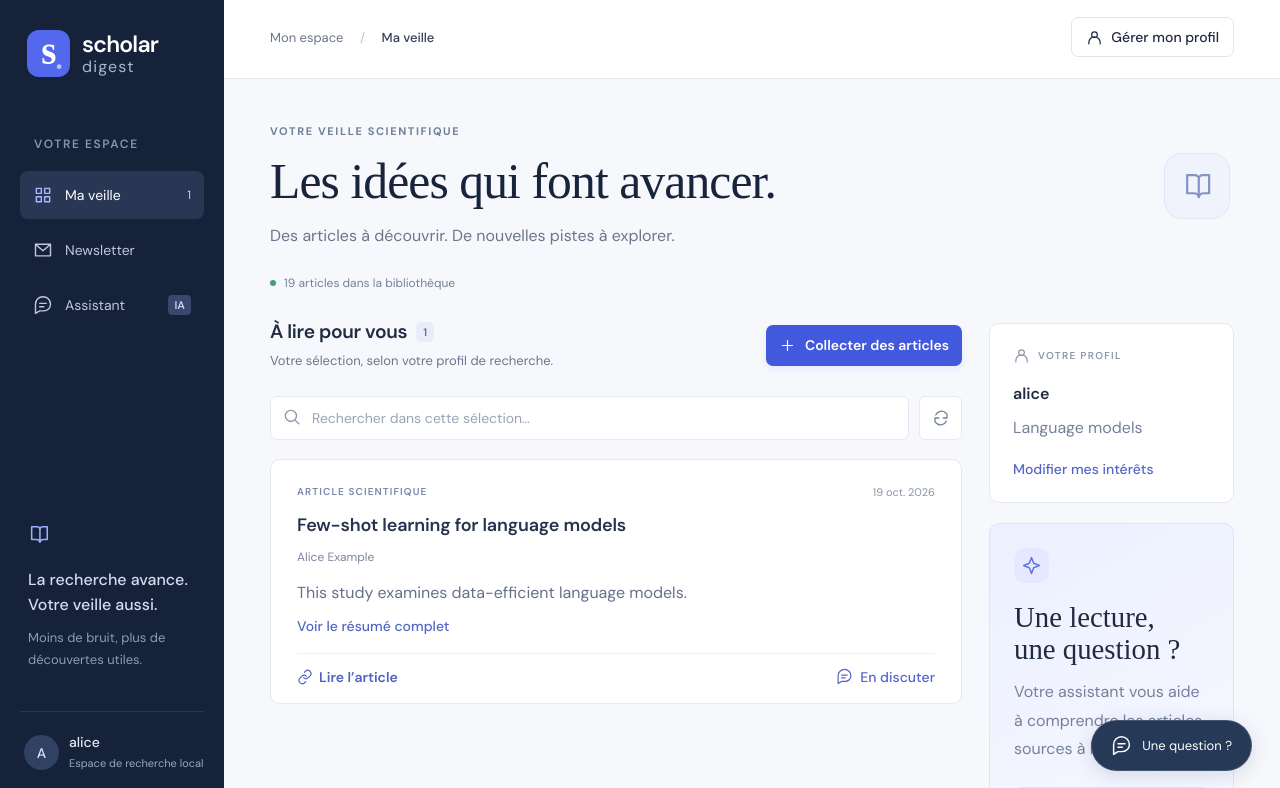
Test case: research workspace › collects using the selected period and refreshes recommendations
This screenshot has width=1280, height=788.
Expected: the heading "Few-shot learning for language models" is shown, [297, 512, 626, 536]
Click the button "Collecter des articles": (864, 346) [766, 326, 962, 366]
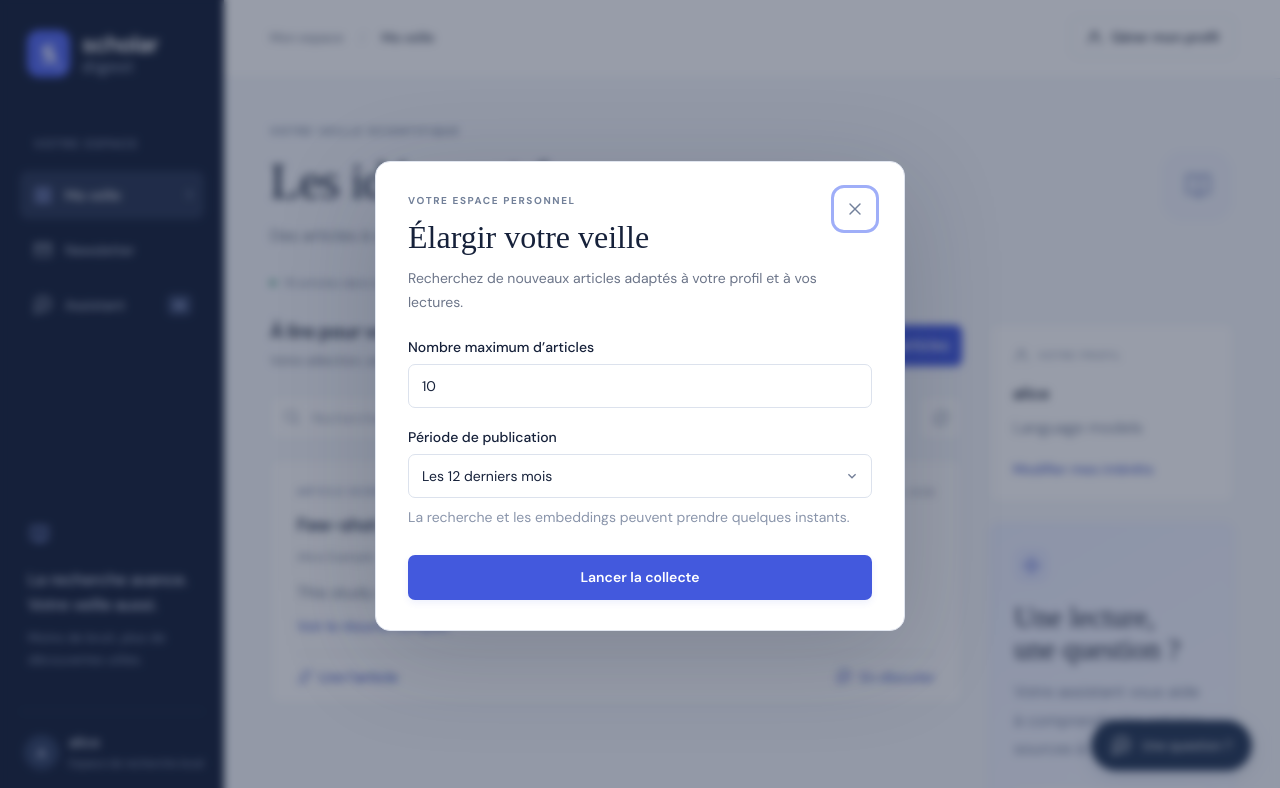
Replace the text in the number field labelled "Nombre maximum d’articles" with "5": (640, 386) [408, 364, 872, 408]
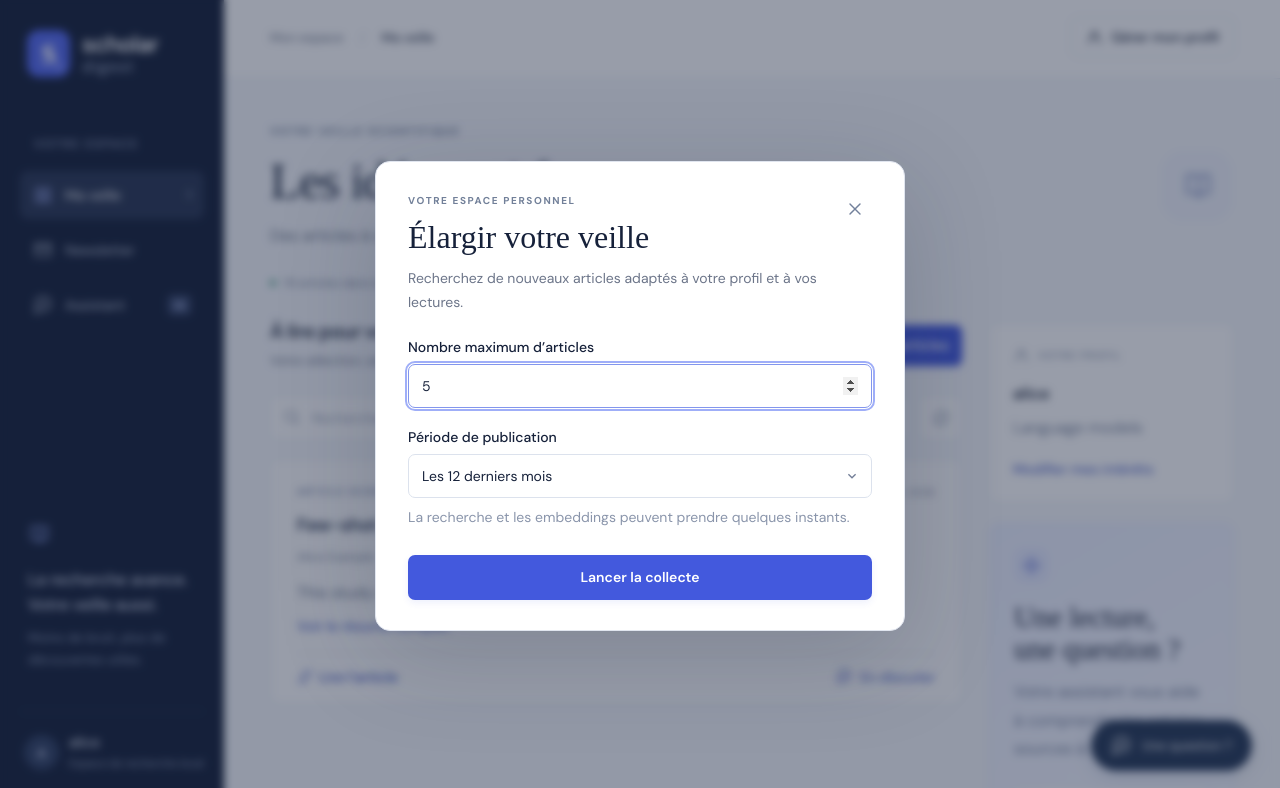
Select "Les 30 derniers jours" in the dropdown labelled "Période de publication": (640, 476) [408, 454, 872, 498]
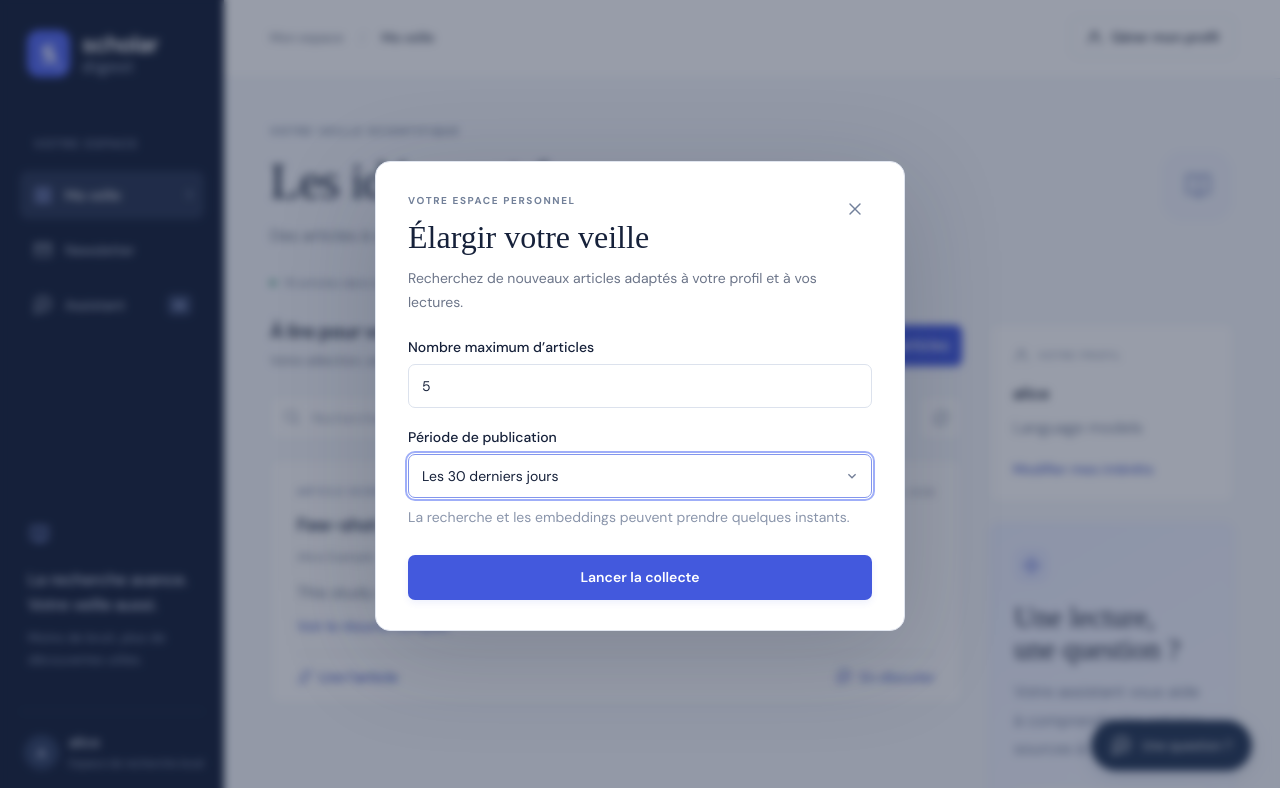
Click the button "Lancer la collecte": (640, 578) [408, 555, 872, 600]
(page scrolled)
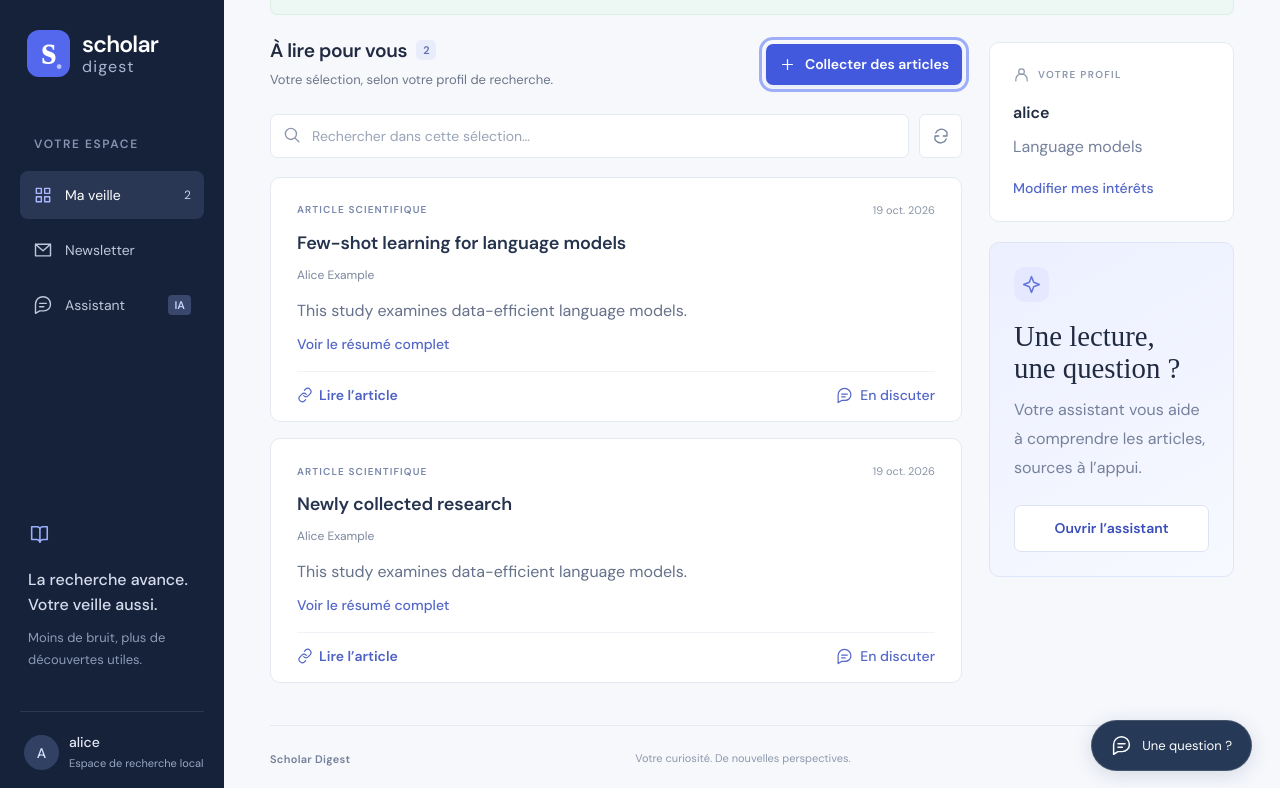
Result: the heading "Newly collected research" is shown at [297, 492, 512, 516]
